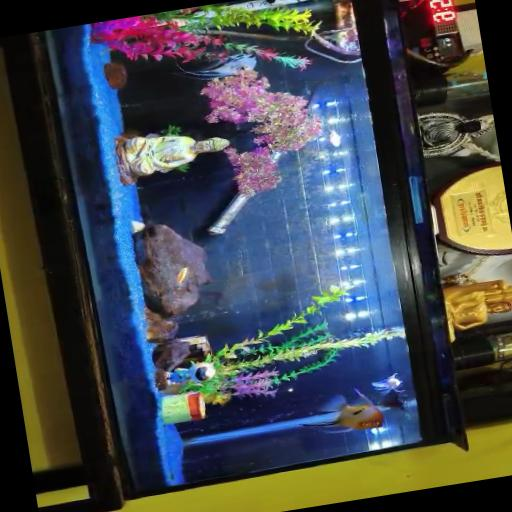Fish: (300, 388, 382, 432), (177, 53, 255, 79), (371, 373, 403, 393), (175, 267, 187, 284)
